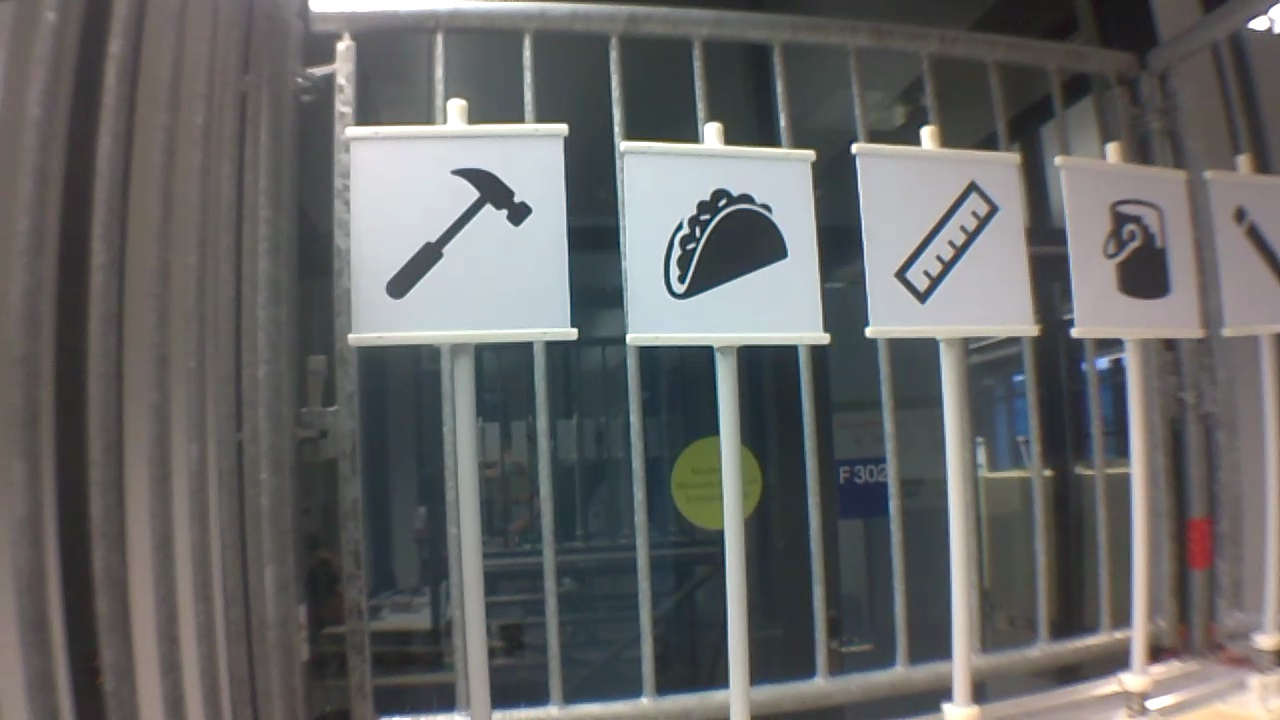bucket: (1096, 197, 1176, 302)
hammer: (379, 160, 537, 306)
pencil: (1225, 195, 1280, 289)
ruler: (885, 172, 1005, 310)
taco: (656, 182, 792, 303)
